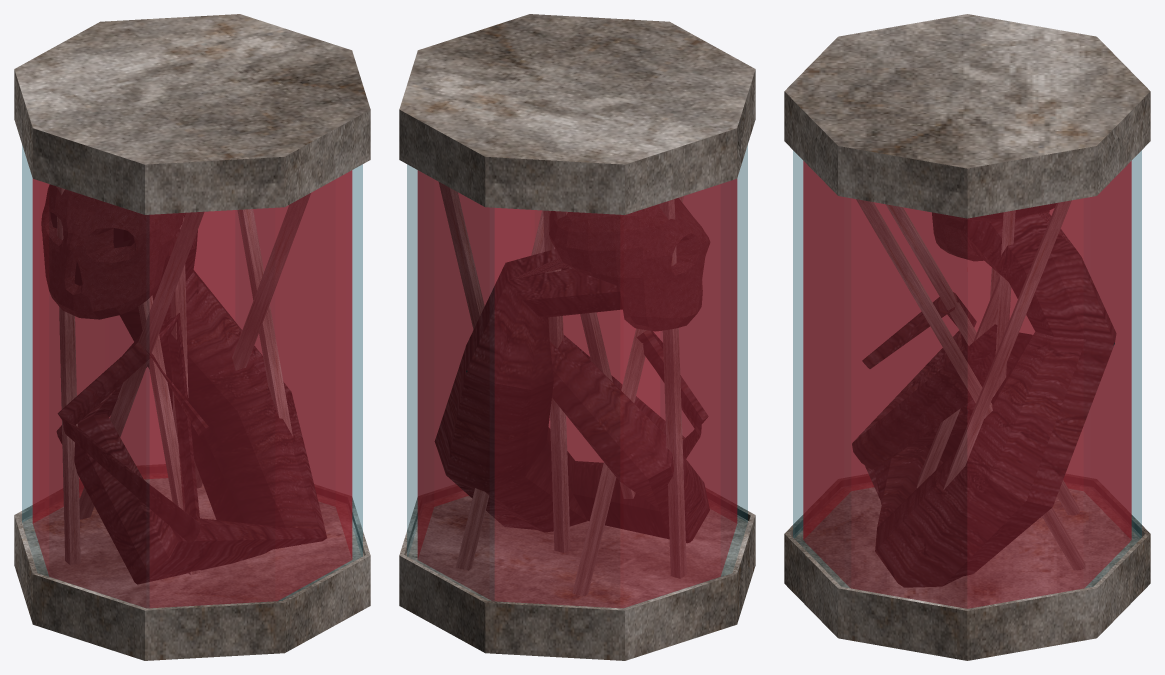
The model's file is fuse.fbx.
The picture shows the model from 3 angles, left to right: view 1: azimuth 30°, elevation 25°; view 2: azimuth 150°, elevation 25°; view 3: azimuth 270°, elevation 25°; orthographic projection.
Parts seen in each view (by area): view 1: FuzeFilled, FuzeFilled.001, Cylinder.004, Cube.001, Cube.002; view 2: FuzeFilled, FuzeFilled.001, Cylinder.004, Cube.001, Cube.002; view 3: FuzeFilled, FuzeFilled.001, Cylinder.004, Cube.002, Cube.001.
Part boxes in pixels (bbox=[...]): FuzeFilled: bbox=[14, 14, 370, 660]; FuzeFilled.001: bbox=[32, 170, 352, 607]; Cylinder.004: bbox=[41, 184, 326, 584]; Cube.001: bbox=[56, 186, 203, 574]; Cube.002: bbox=[171, 193, 310, 544]; FuzeFilled: bbox=[399, 14, 755, 660]; FuzeFilled.001: bbox=[417, 170, 737, 607]; Cylinder.004: bbox=[435, 198, 709, 542]; Cube.001: bbox=[556, 196, 686, 595]; Cube.002: bbox=[439, 182, 570, 570]; FuzeFilled: bbox=[784, 14, 1150, 660]; FuzeFilled.001: bbox=[803, 161, 1131, 608]; Cylinder.004: bbox=[852, 203, 1116, 587]; Cube.002: bbox=[856, 199, 1084, 569]; Cube.001: bbox=[886, 204, 1079, 514].
Bounding box in the file's own units: 0.9846 × 1.46 × 0.9856.
